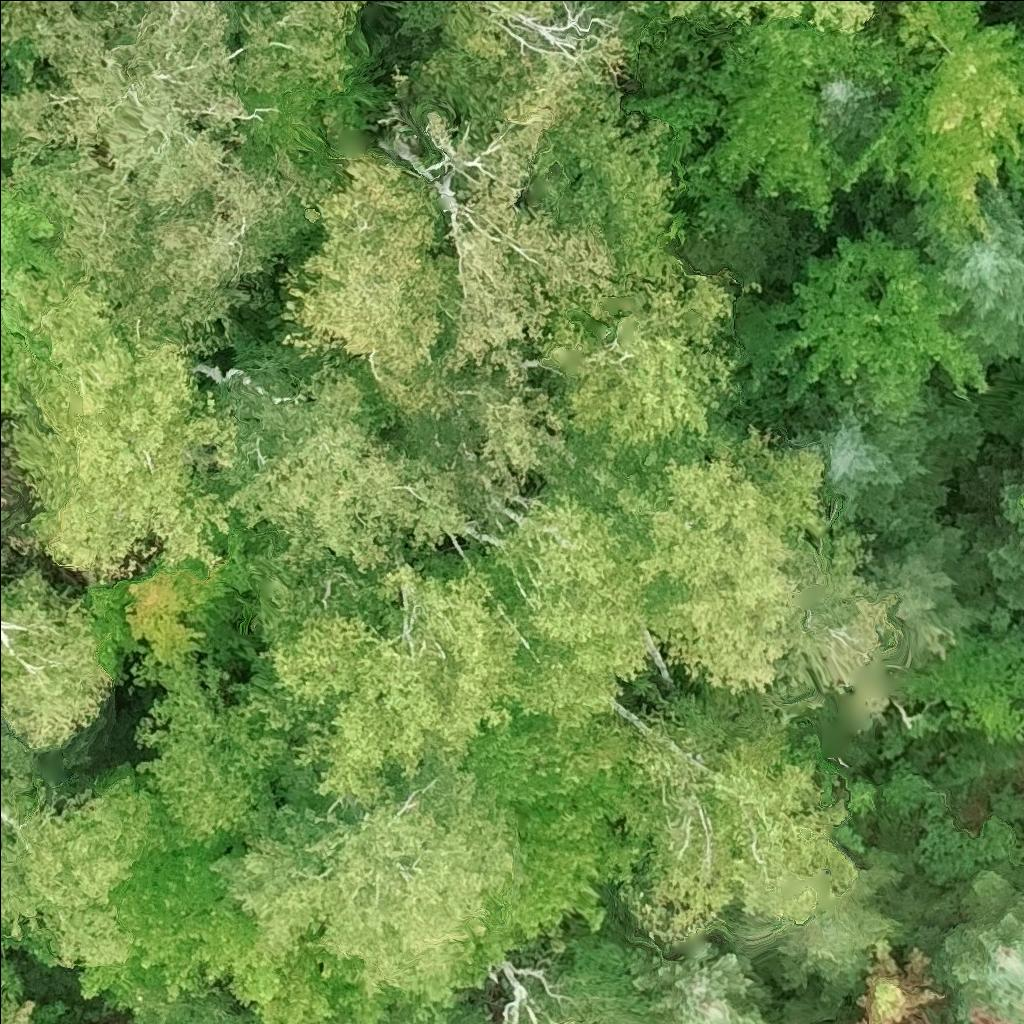crown: (404, 49, 691, 396), (561, 418, 885, 694), (206, 760, 519, 1010), (0, 276, 249, 576), (249, 554, 538, 809), (0, 0, 248, 284), (619, 688, 862, 933), (211, 354, 470, 580), (452, 710, 648, 987), (277, 152, 469, 419), (699, 10, 919, 228), (108, 145, 341, 349), (765, 222, 993, 422), (488, 488, 669, 739), (539, 258, 739, 459), (0, 733, 166, 974), (383, 359, 581, 539), (879, 18, 1023, 245), (78, 827, 251, 1015), (130, 652, 296, 842), (783, 391, 989, 542), (883, 179, 1023, 380), (852, 500, 994, 673), (0, 554, 111, 752), (121, 535, 247, 670), (915, 865, 1023, 1022), (229, 956, 457, 1023), (904, 620, 1023, 747), (221, 0, 359, 96), (396, 0, 562, 76), (952, 434, 1023, 610), (627, 944, 775, 1023), (0, 165, 75, 319), (846, 936, 950, 1023), (620, 0, 879, 34), (812, 73, 898, 158), (84, 584, 151, 669), (0, 974, 104, 1023), (893, 0, 985, 54), (128, 991, 256, 1023), (0, 0, 51, 66), (0, 297, 29, 381), (0, 931, 21, 991), (526, 1014, 603, 1023), (349, 0, 384, 14), (0, 161, 9, 179), (1019, 0, 1023, 23), (1020, 494, 1023, 507)
